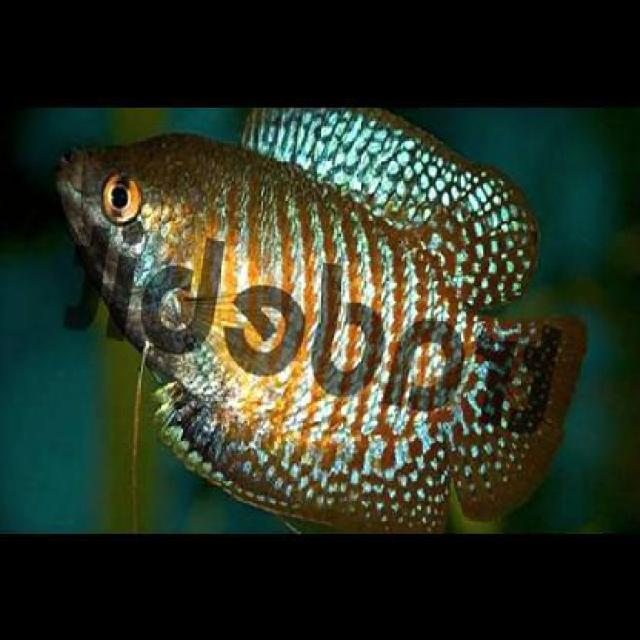Gourami: (54, 106, 592, 532)
